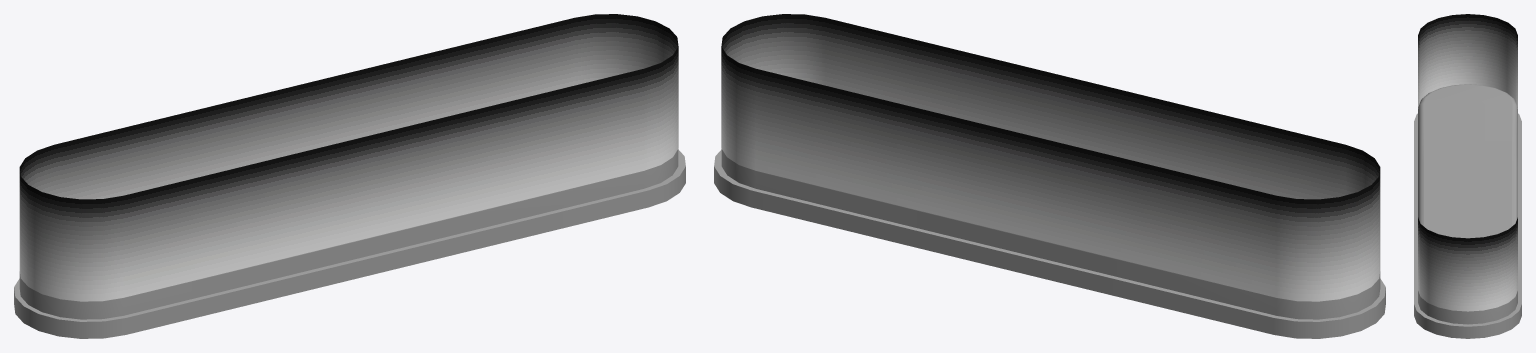
The model's file is SpacebarButton.fbx.
3 renders of one model, left to right at view 1: azimuth 30°, elevation 25°; view 2: azimuth 150°, elevation 25°; view 3: azimuth 270°, elevation 25°, orthographic. The views are drawn at different scales.
Visible parts, largest first — view 1: GlowCylinder1, Rim, ButtonFace; view 2: GlowCylinder1, Rim, ButtonFace; view 3: ButtonFace, GlowCylinder1, Rim.
Part boxes in pixels (x1,y1,x2,y2): GlowCylinder1: [19, 14, 678, 301]; Rim: [14, 149, 685, 338]; ButtonFace: [19, 149, 678, 319]; GlowCylinder1: [721, 14, 1380, 301]; Rim: [714, 149, 1385, 338]; ButtonFace: [721, 149, 1380, 319]; ButtonFace: [1418, 84, 1517, 324]; GlowCylinder1: [1418, 14, 1517, 311]; Rim: [1414, 113, 1521, 338].
Bounding box in the file's own units: 0.2005 × 0.0403 × 0.04.
